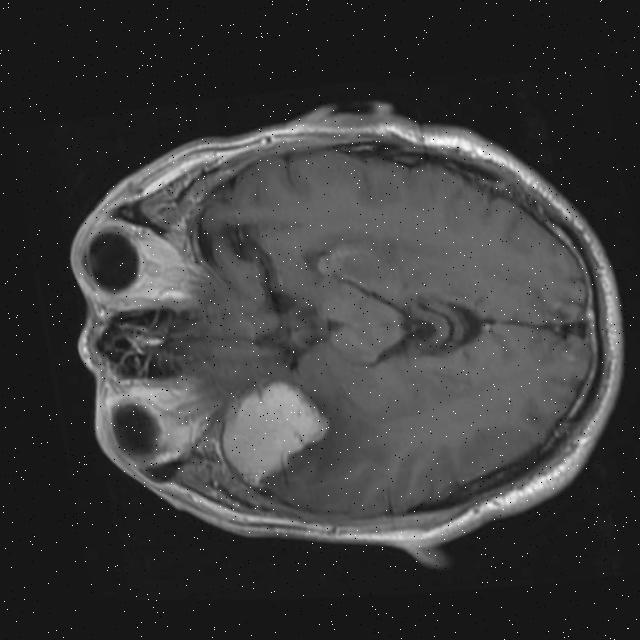Meningioma: (207, 366, 343, 495)
